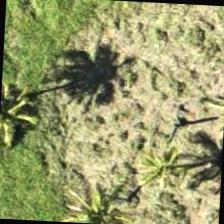Kelapa_Sawit: (116, 123, 210, 218), (62, 167, 157, 223)
